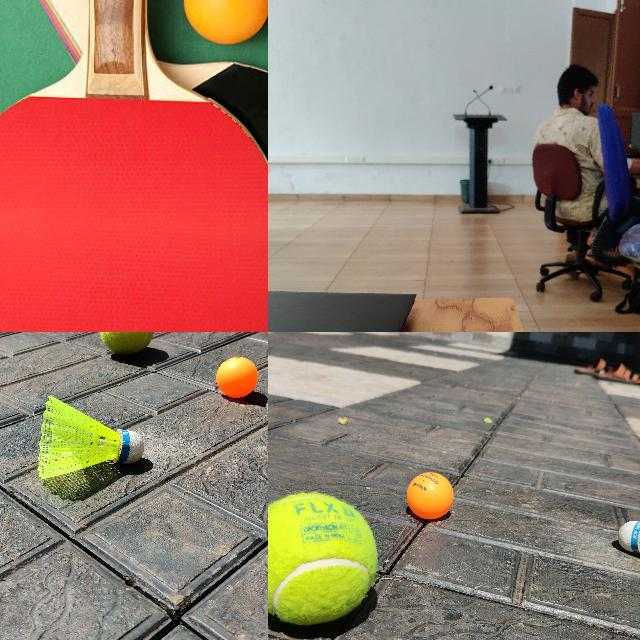ping-pong-ball: (183, 0, 267, 44), (405, 472, 453, 518), (216, 356, 256, 398)
